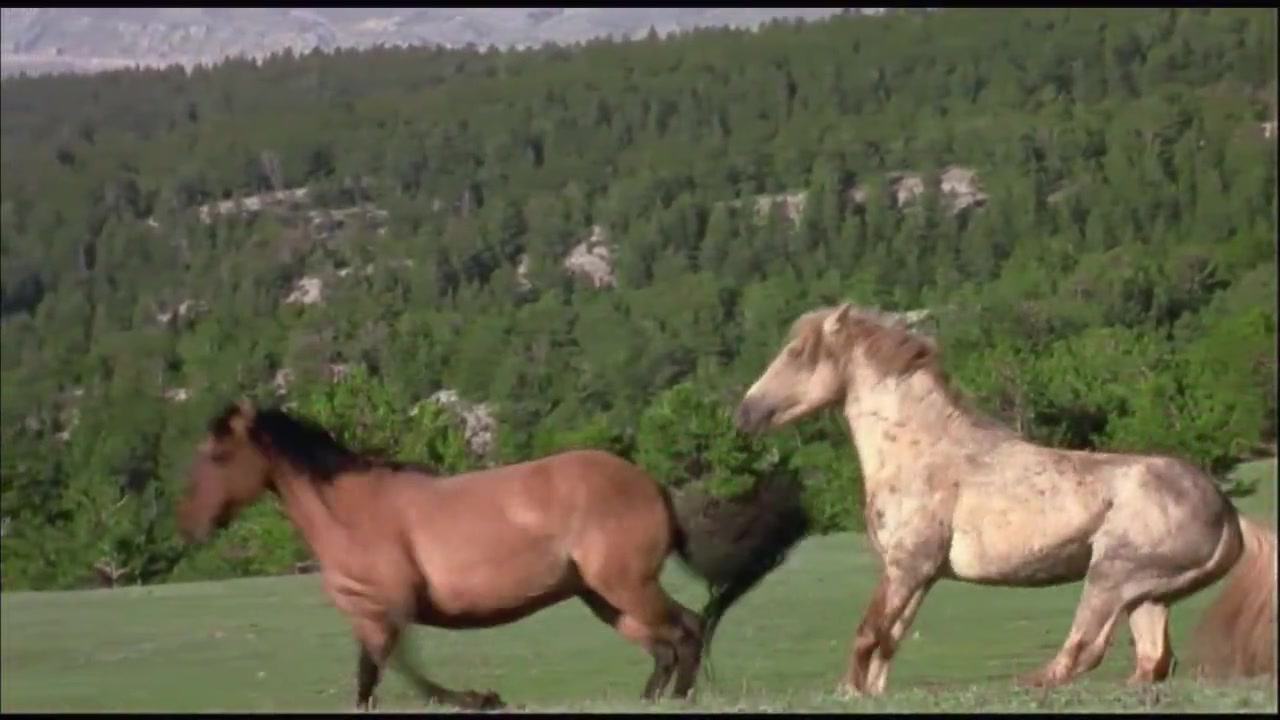horse: (741, 306, 1280, 702)
